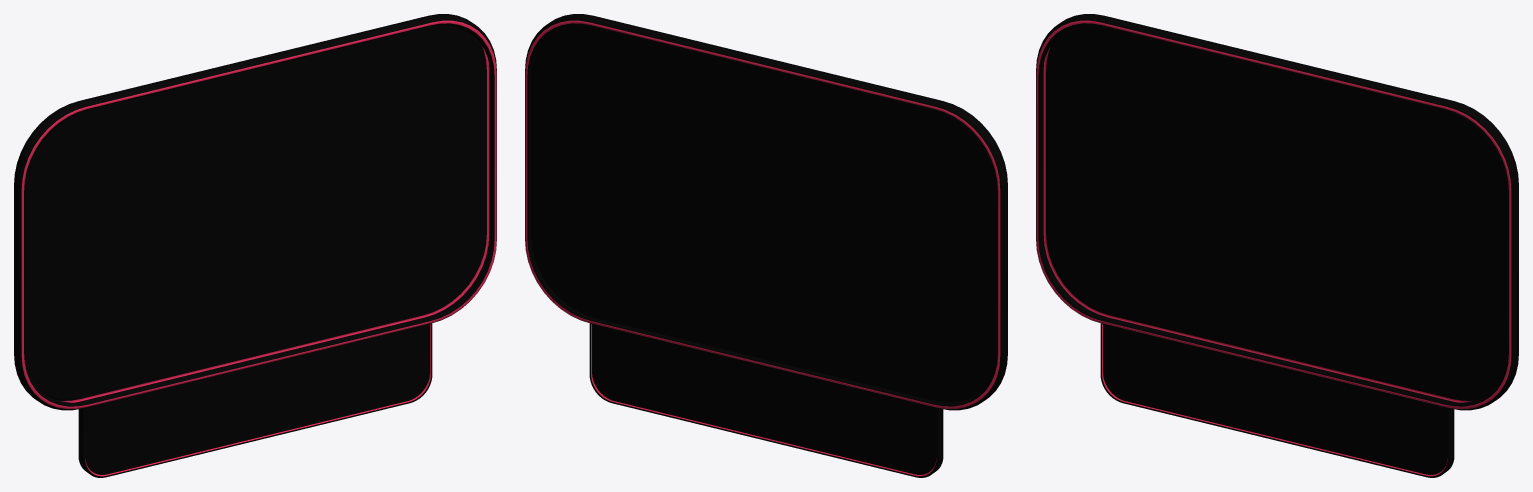
File: BasisCamera.fbx
3 renders of one model, left to right at view 1: azimuth 30°, elevation 25°; view 2: azimuth 150°, elevation 25°; view 3: azimuth 330°, elevation 25°, orthographic.
Visible parts, largest first — view 1: Camera, Camera.001; view 2: Camera, Camera.001; view 3: Camera, Camera.001.
Part boxes in pixels (x1,y1,x2,y2): Camera: (14, 14, 496, 410); Camera.001: (78, 323, 432, 477); Camera: (525, 14, 1007, 410); Camera.001: (589, 323, 943, 477); Camera: (1036, 14, 1518, 410); Camera.001: (1100, 323, 1454, 477).
Bounding box in the file's own units: 179 × 135 × 5.
Materials: 1 (1 with a texture image).
